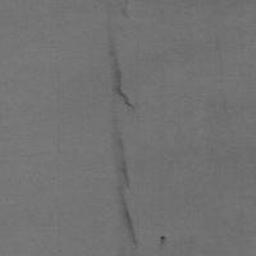Inclusion: (112, 118, 138, 248), (109, 36, 136, 111), (159, 235, 167, 249)
